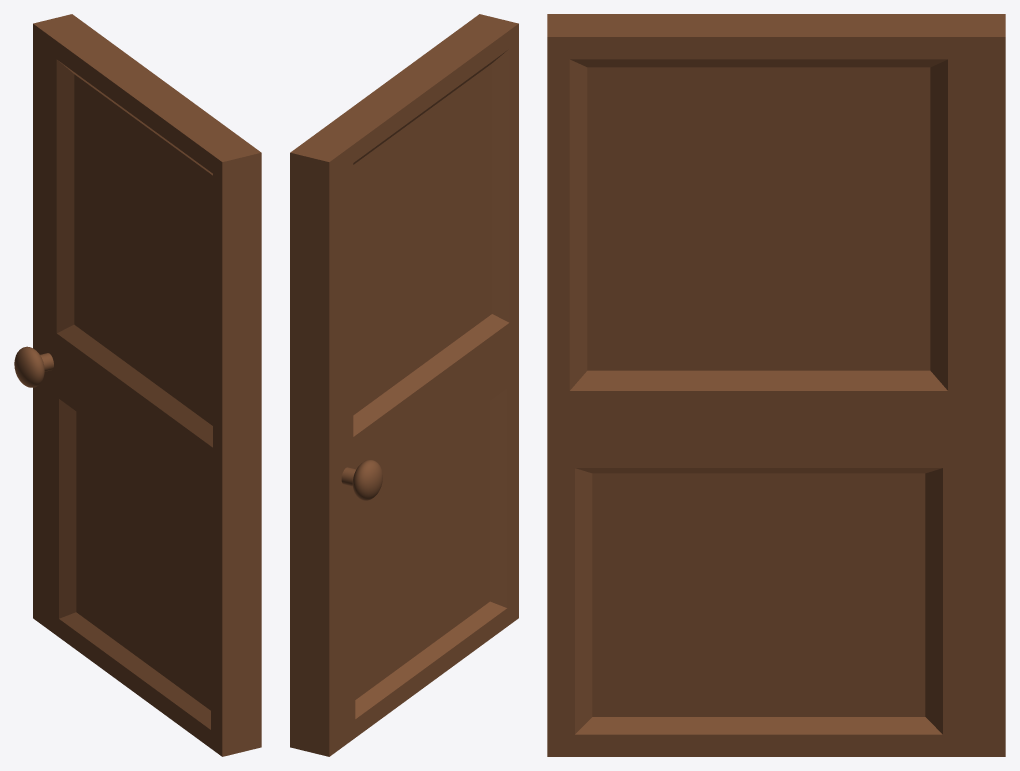
File: puerta.fbx
The picture shows the model from 3 angles, left to right: view 1: azimuth 30°, elevation 25°; view 2: azimuth 150°, elevation 25°; view 3: azimuth 270°, elevation 25°; orthographic projection. The views are drawn at different scales.
Visible parts, largest first — view 1: puerta, pomo; view 2: puerta, pomo; view 3: puerta.
Boxes of the visible parts, x1,y1,x2,y2 form: puerta: (33,14,261,756); pomo: (14,346,53,387); puerta: (290,14,518,756); pomo: (341,460,382,500); puerta: (547,14,1005,756).
Size of the model in its own units: 89.46 by 714 by 412.
